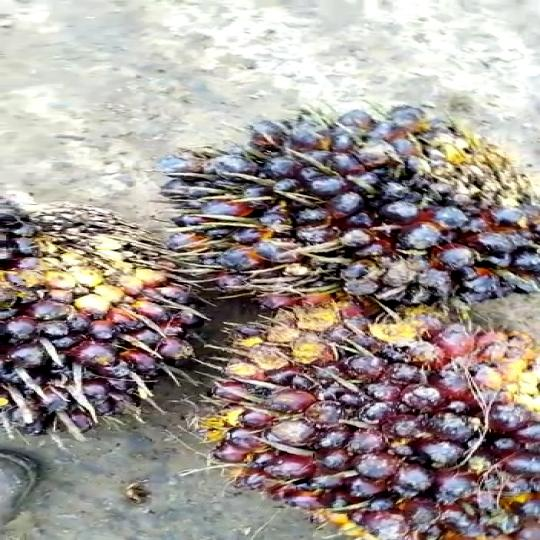mentah: (180, 299, 540, 540), (154, 90, 540, 306), (0, 188, 211, 439)
